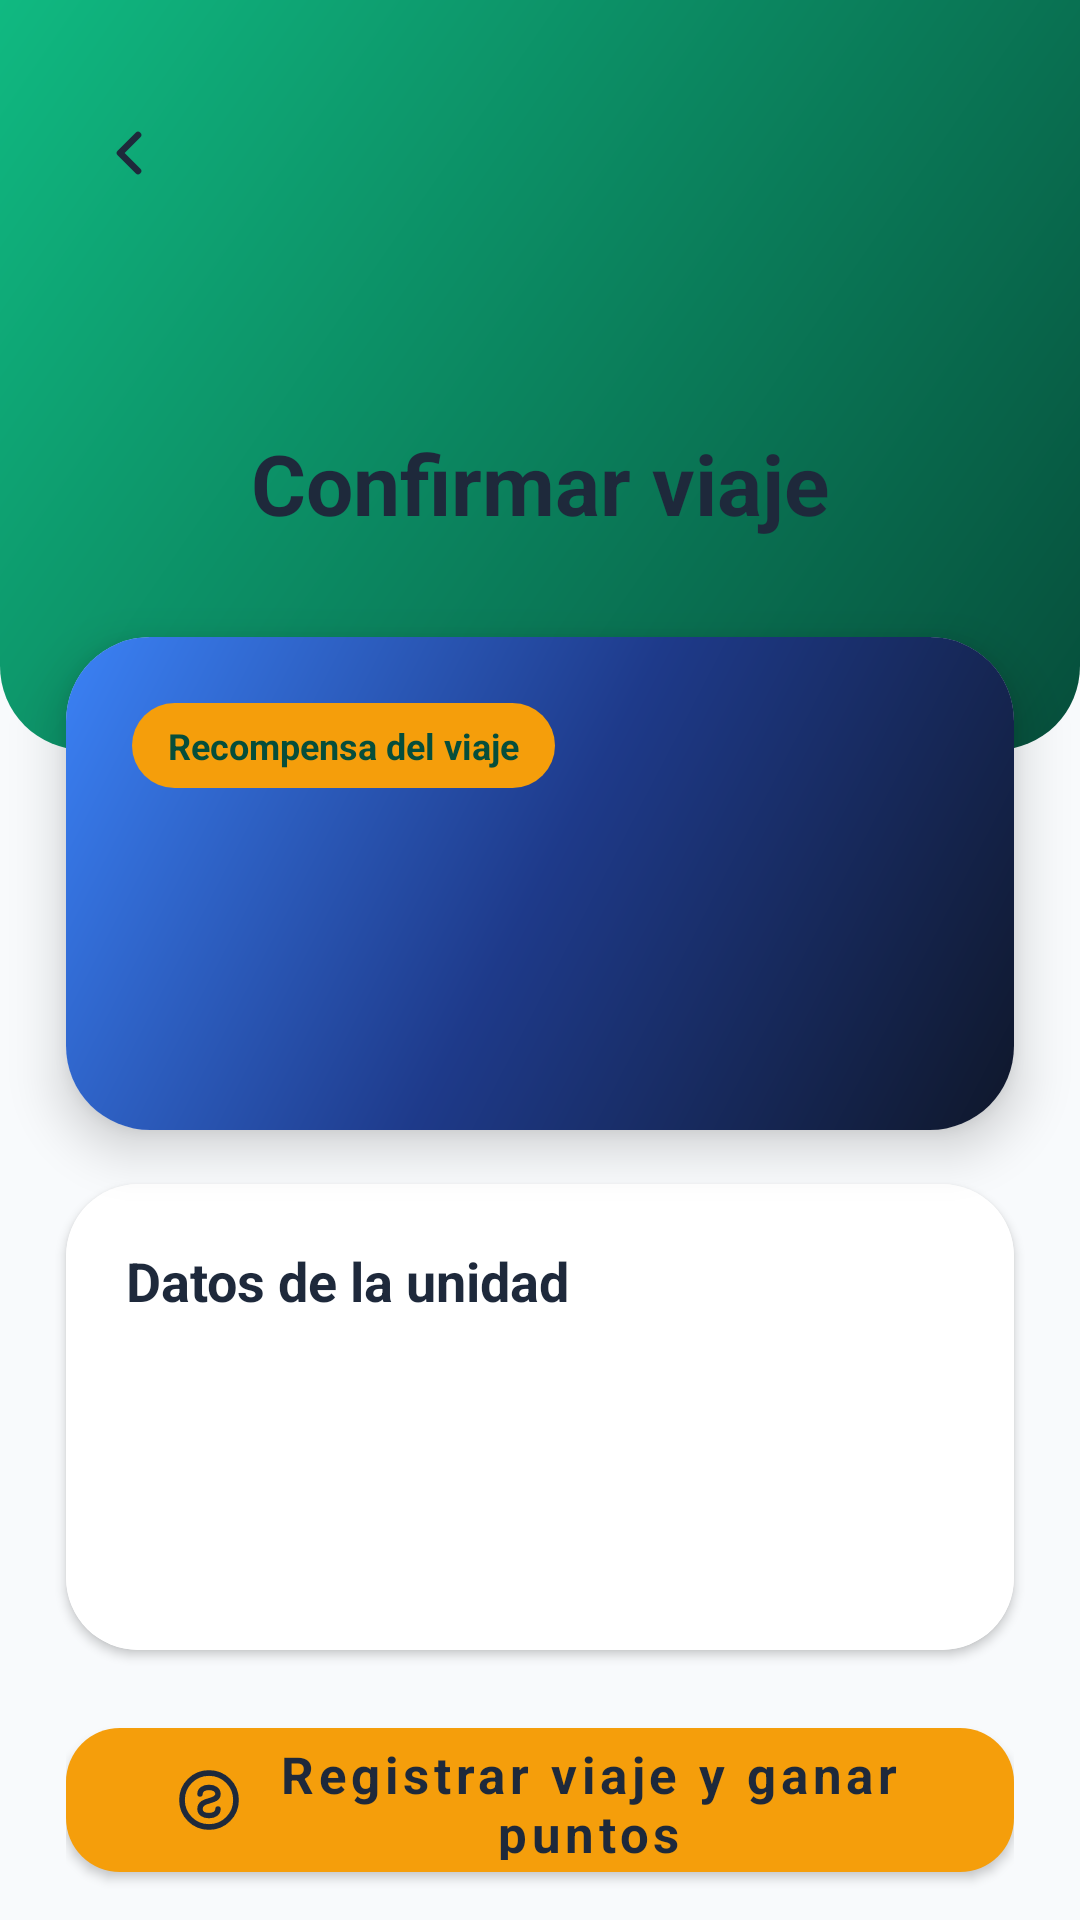

Where to tap for icons on this 1080w x 1920h app screen, as (x=x, y=y):
Volver: (x=129, y=153)
